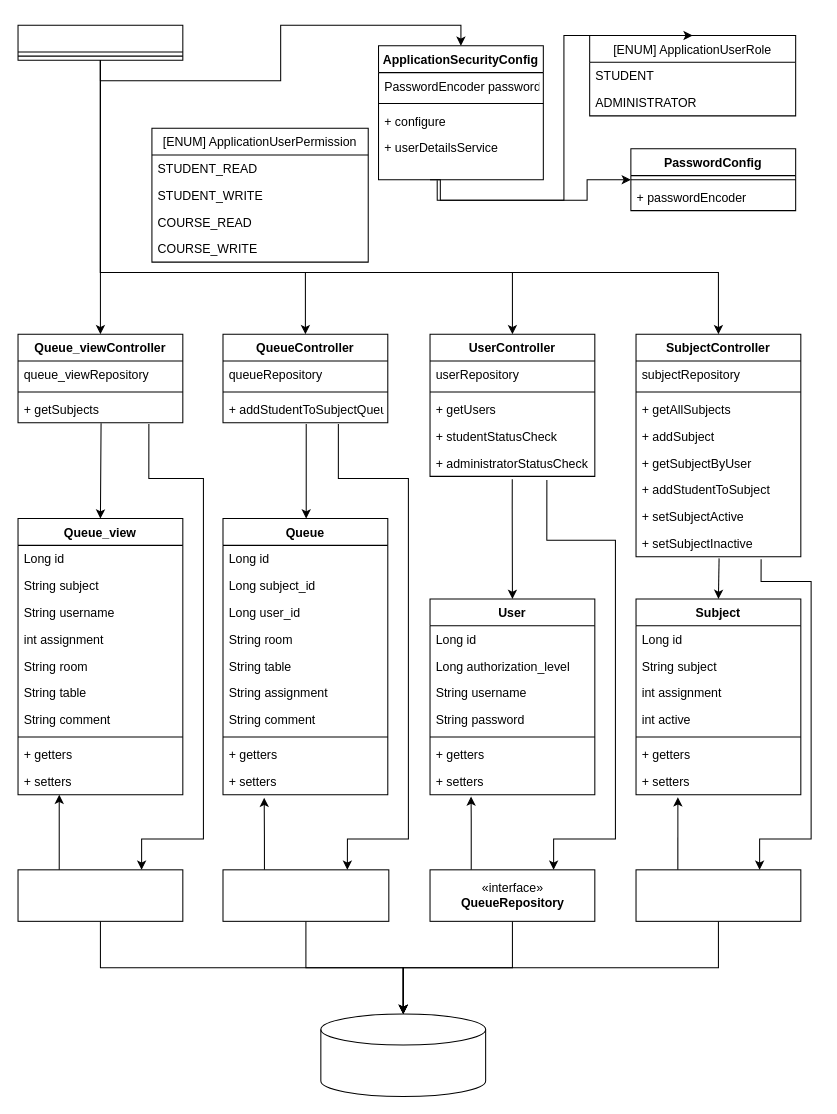
Some shapes in this 837 by 1114 pixel diagram are drawn without their labels. Each missing label, with the centre of its shape:
"BackendApplication" belongs at pixel 100 42.
"Database" belongs at pixel 403 1054.
"«interface» Queue_viewRepository" belongs at pixel 718 895.
"«interface» SubjectRepository" belongs at pixel 305 895.
"«interface» UserRepository" belongs at pixel 100 895.
